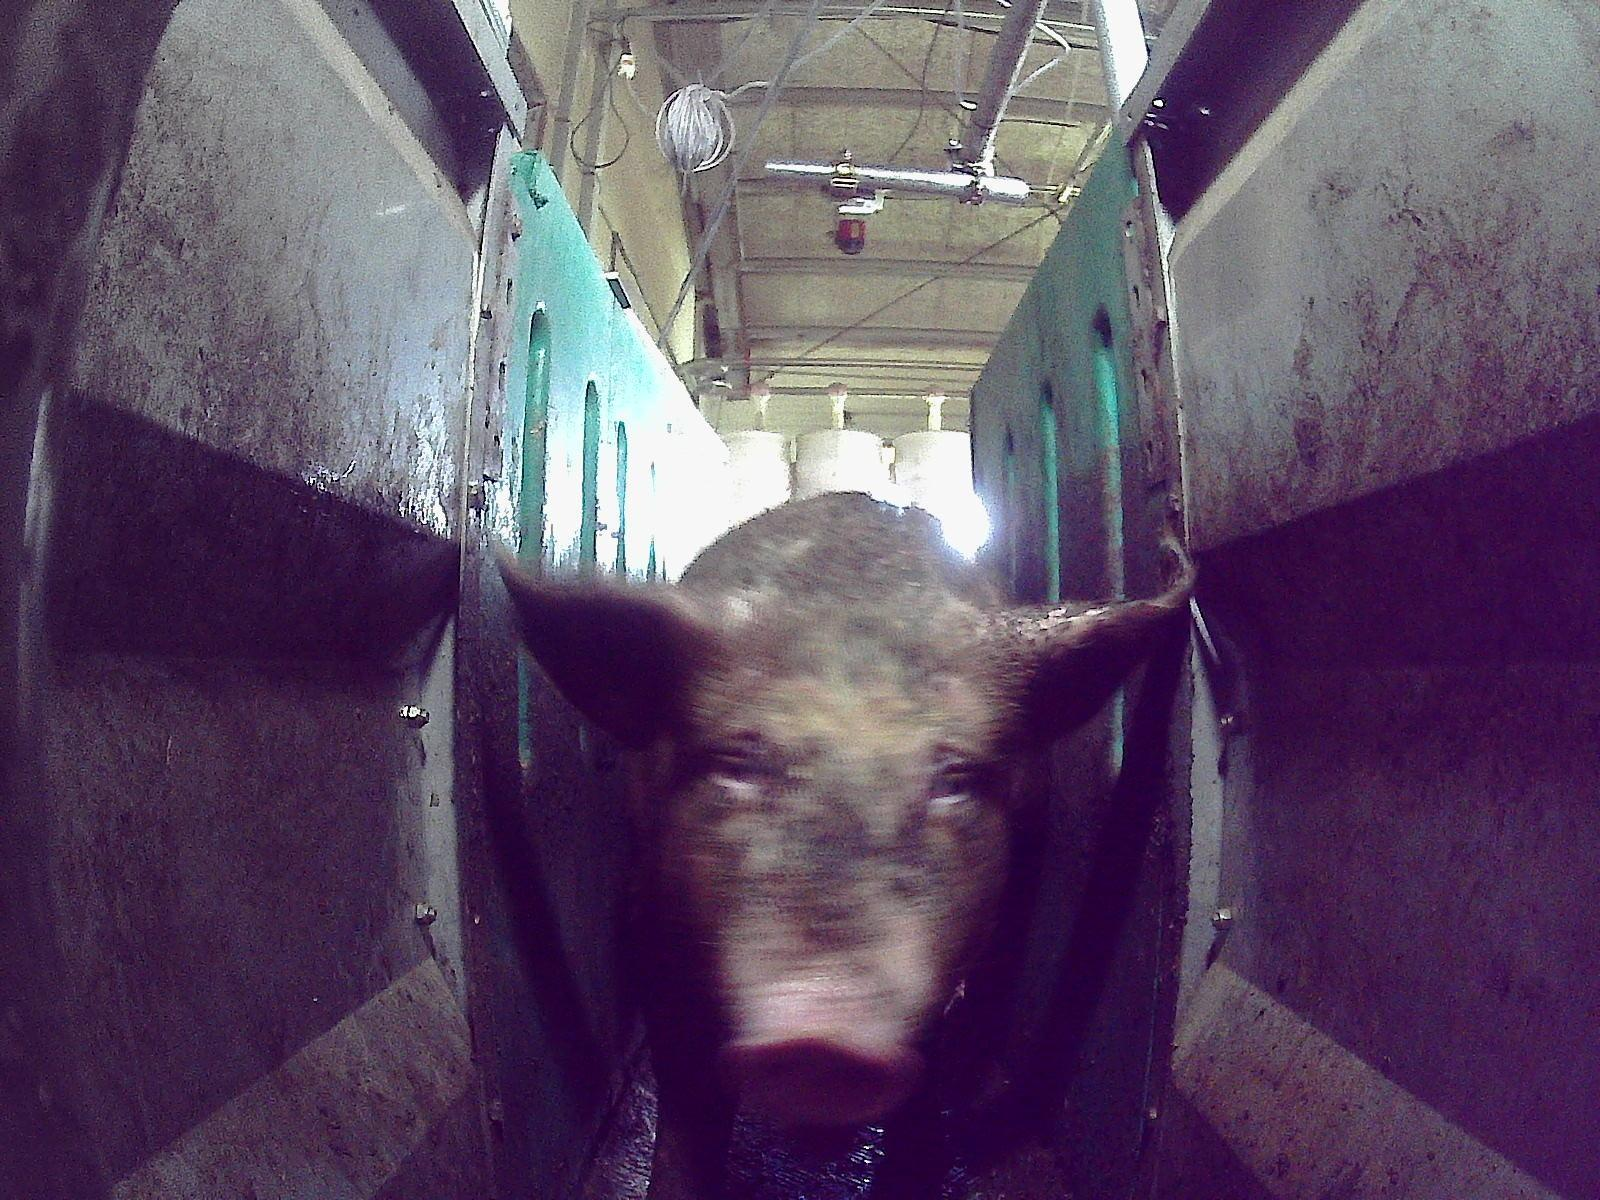Face: (625, 625, 1022, 1125)
